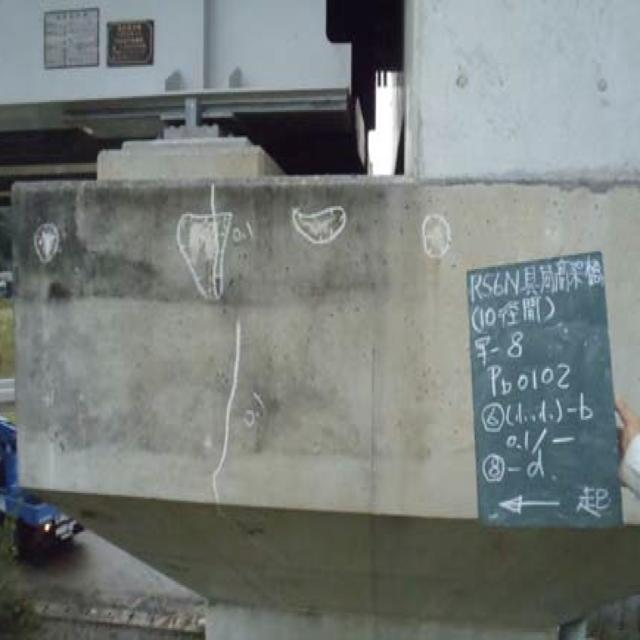freelime: (180, 206, 231, 291), (296, 200, 356, 243), (27, 224, 80, 266), (423, 214, 457, 264)
